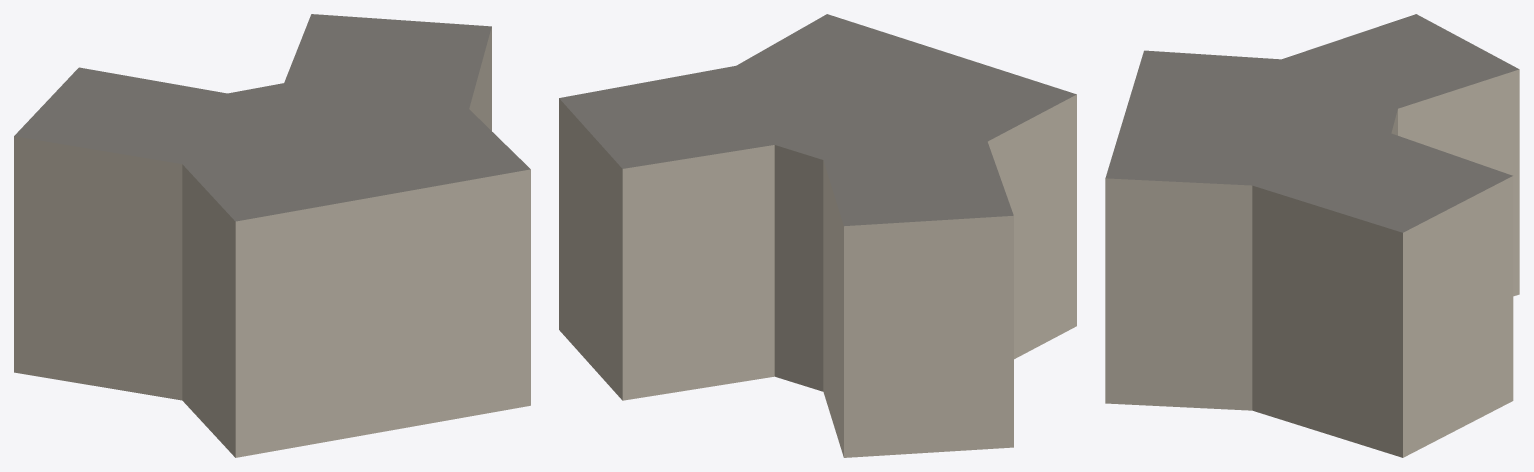
The picture shows the model from 3 angles, left to right: view 1: azimuth 30°, elevation 25°; view 2: azimuth 150°, elevation 25°; view 3: azimuth 270°, elevation 25°; orthographic projection. The views are drawn at different scales.
Visible parts, largest first — view 1: HP-w1287059334; view 2: HP-w1287059334; view 3: HP-w1287059334.
Part boxes in pixels (x1,y1,x2,y2): HP-w1287059334: (14,14,530,457); HP-w1287059334: (559,14,1076,457); HP-w1287059334: (1105,14,1519,457).
Size of the model in its own units: 37.52 by 18 by 30.01.
